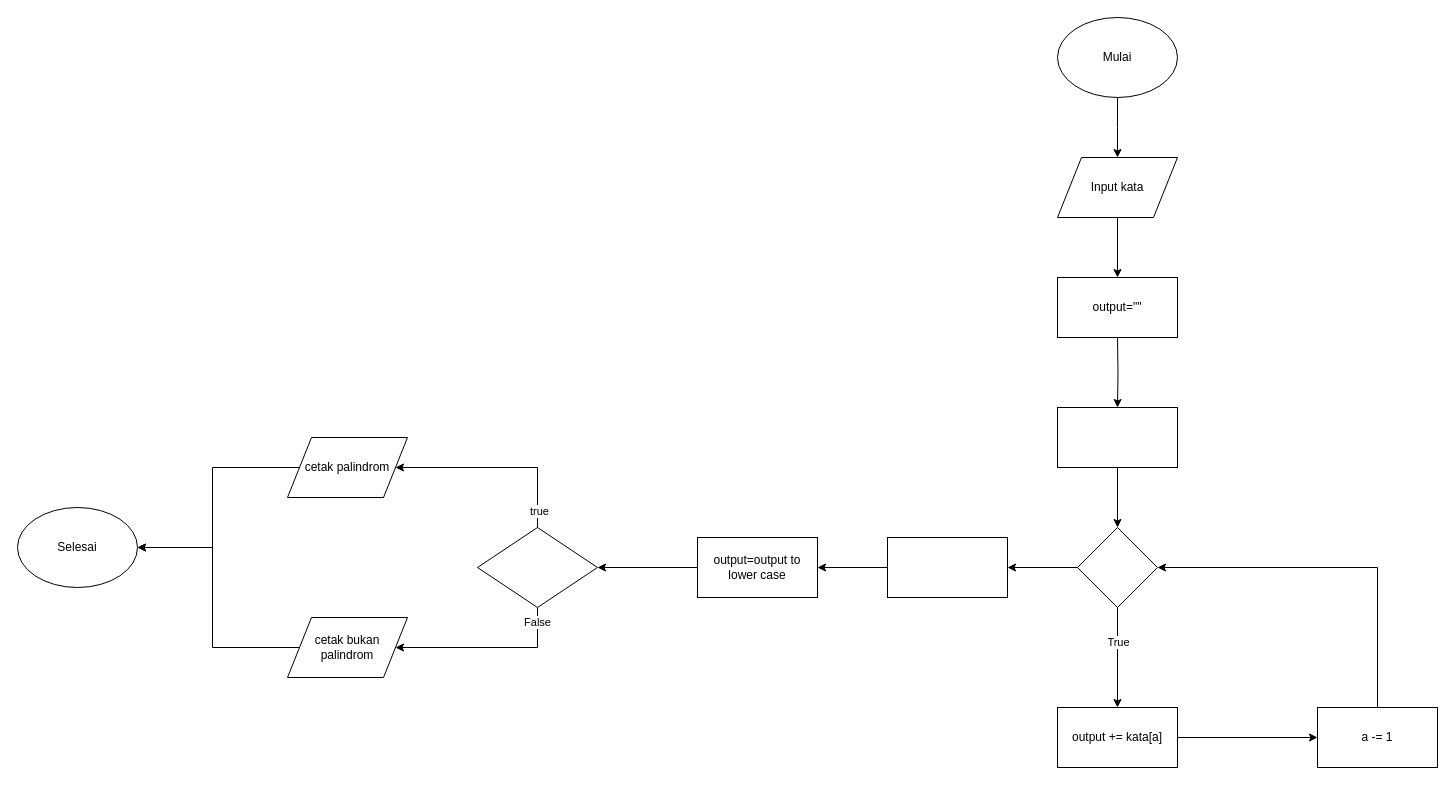
Image size: 1455x785. Some labels were removed from this diagram. Each missing label, with the centre of its shape:
a = kata.length - 1: the point at 1117,437
a >= 0: the point at 1117,567
kata === output: the point at 537,567
kata=kata to lower case: the point at 947,567
